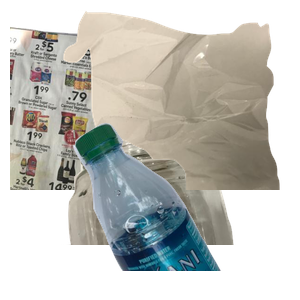glass: (61, 120, 287, 300)
paper: (10, 22, 225, 202)
plastic: (71, 120, 300, 300)
trash: (61, 10, 300, 190)
